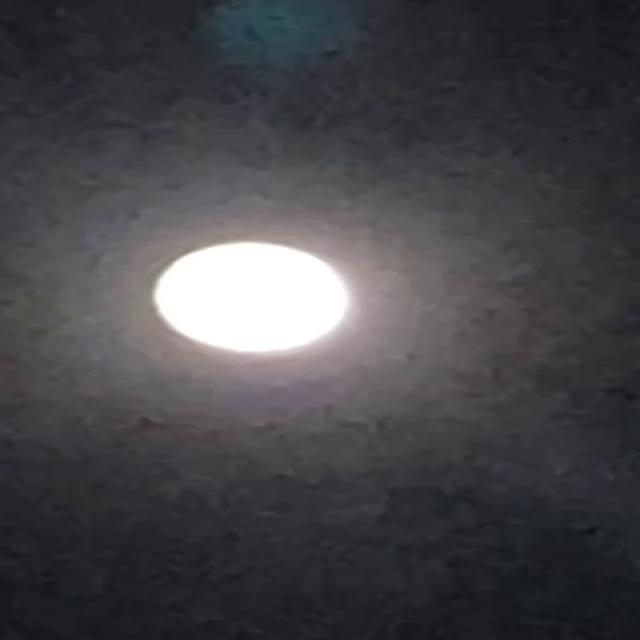moon: (124, 230, 353, 374)
